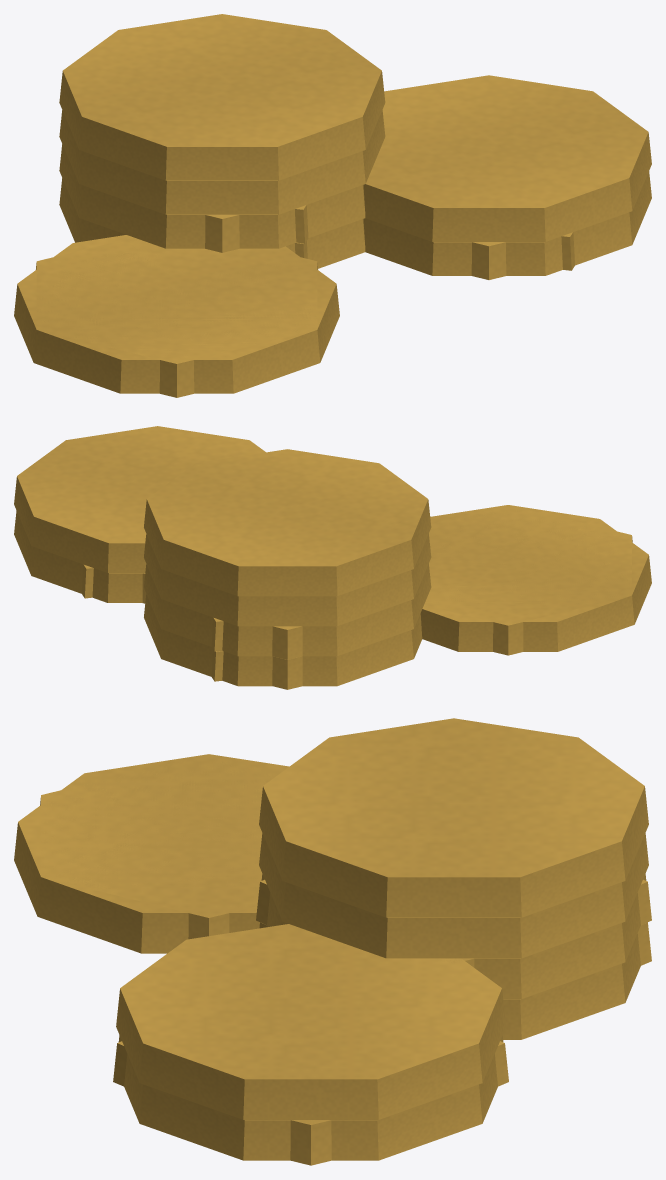
Rendered from CoinStack.fbx.
3 views of the same model, one above another, from view 1: azimuth 30°, elevation 25°; view 2: azimuth 150°, elevation 25°; view 3: azimuth 270°, elevation 25° (orthographic). The views are drawn at different scales.
Parts seen in each view (by area): view 1: CoinStackDetail0, CoinStackDetail1, CoinStackDetail2; view 2: CoinStackDetail0, CoinStackDetail1, CoinStackDetail2; view 3: CoinStackDetail0, CoinStackDetail1, CoinStackDetail2.
Part boxes in pixels (x1,y1,x2,y2): CoinStackDetail0: (14,14,651,393); CoinStackDetail1: (36,215,506,397); CoinStackDetail2: (295,205,574,270); CoinStackDetail0: (14,426,651,686); CoinStackDetail1: (142,505,632,689); CoinStackDetail2: (81,564,223,681); CoinStackDetail0: (14,718,648,1160); CoinStackDetail1: (40,755,474,1165); CoinStackDetail2: (113,879,651,1124).
Size of the model in its own units: 43.4 by 8.7 by 31.25.
1 material, 1 textured.
